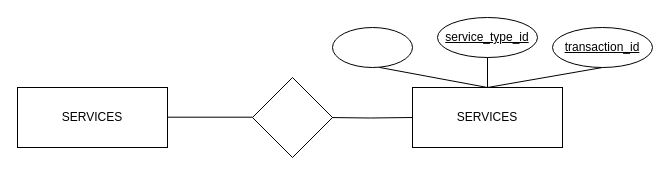
The diagram is 670 pixels wide and 175 high, and some of its shapes have lost their labels. Here are the shapes that lost their labels. From the top down, the box of each, then its label:
(332, 26, 412, 68): service_id
(252, 76, 332, 158): has
